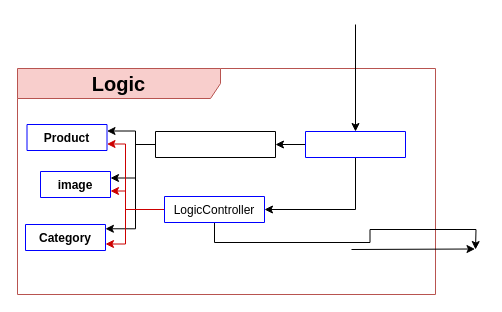
Some shapes in this 502 by 312 pixel diagram are drawn without their labels. The shapes that lost their labels are listed below. From the top down, each one's centre as x and y in pixels, then its label:
the point at 215,144: JSONConverter
the point at 355,144: LogicFacade
